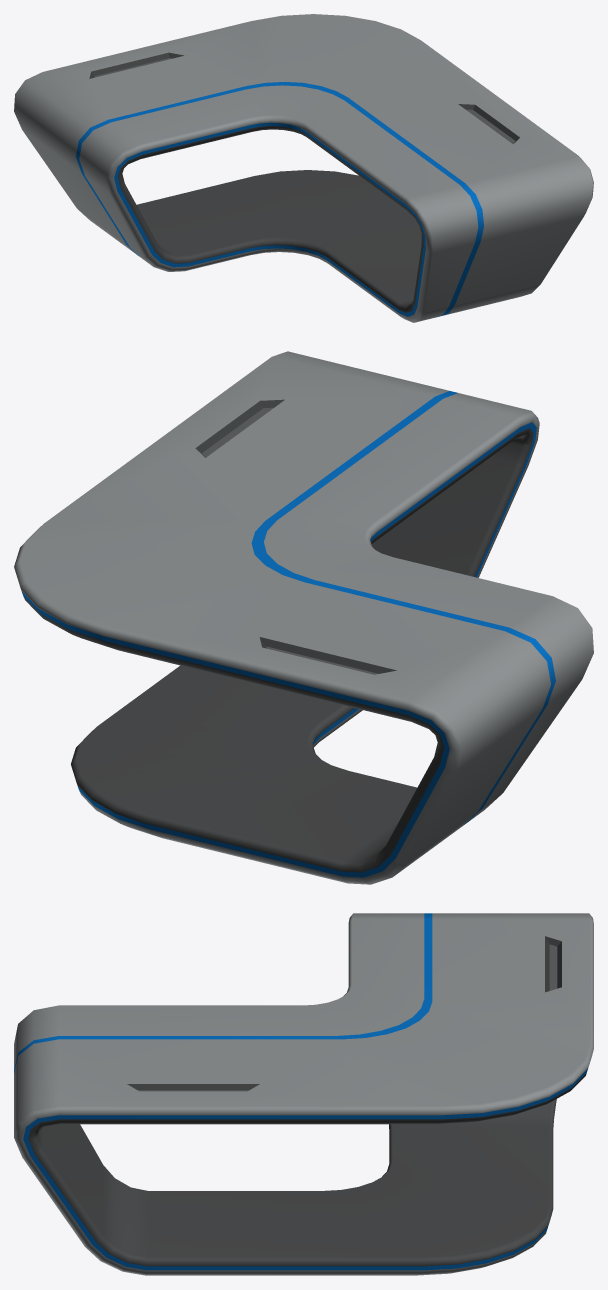
File: Desk_041.fbx
The picture shows the model from 3 angles, top to bottom: view 1: azimuth 30°, elevation 25°; view 2: azimuth 150°, elevation 25°; view 3: azimuth 270°, elevation 25°; orthographic projection. The views are drawn at different scales.
Visible parts, largest first — view 1: Desk_041; view 2: Desk_041; view 3: Desk_041.
Boxes of the visible parts, bbox=[...] form: Desk_041: bbox=[14, 14, 593, 322]; Desk_041: bbox=[14, 351, 593, 884]; Desk_041: bbox=[14, 913, 593, 1275].
Size of the model in its own units: 199 by 236 by 84.83.
